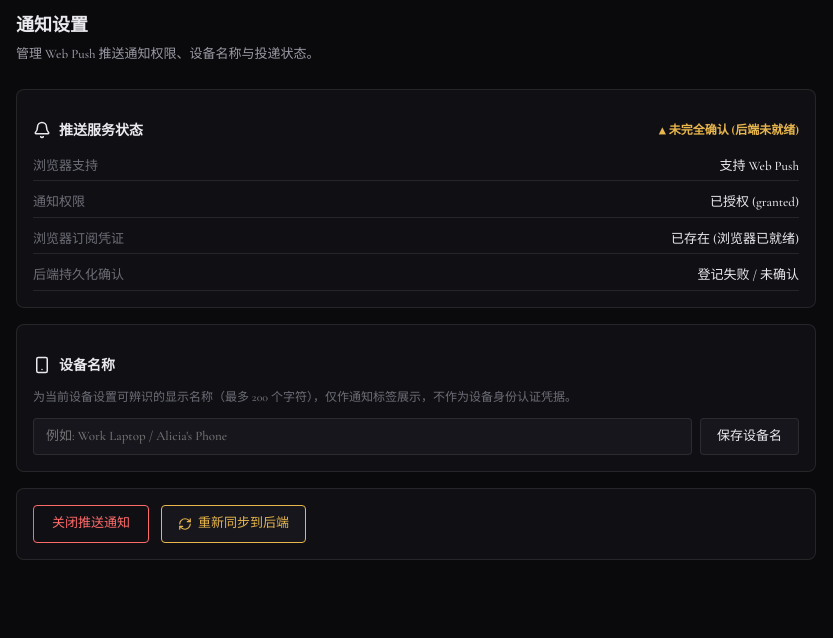
Scenario: P2D D-2 Section A: Settings Panel & Subscription Truth › implements partial failure on disable: preserves browser subscription if backend unsubscribe fails
Note: Simulate clicking disable
Click the button "关闭推送通知": (91, 524) [33,505,149,542]
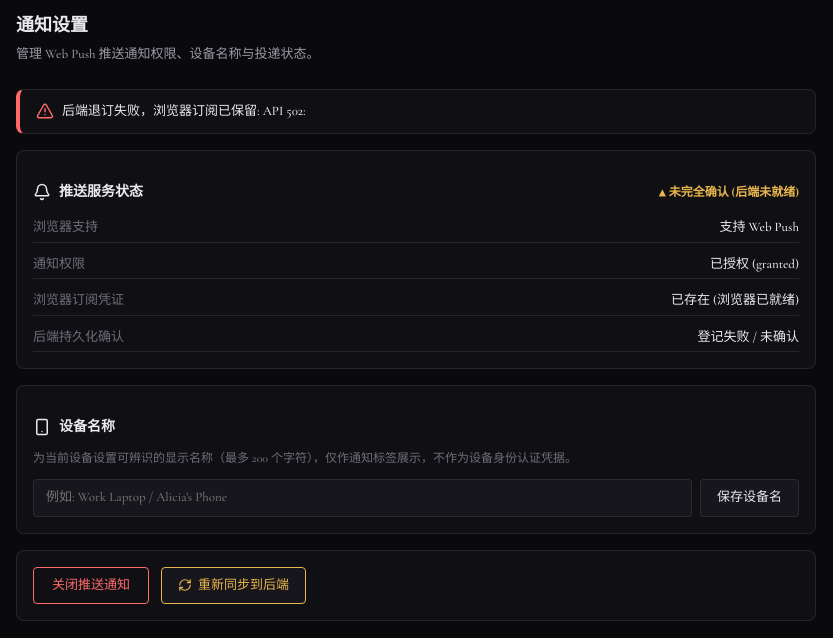
Check: the text "后端退订失败，浏览器订阅已保留: API 502:" is shown, box [62,102,306,121]
